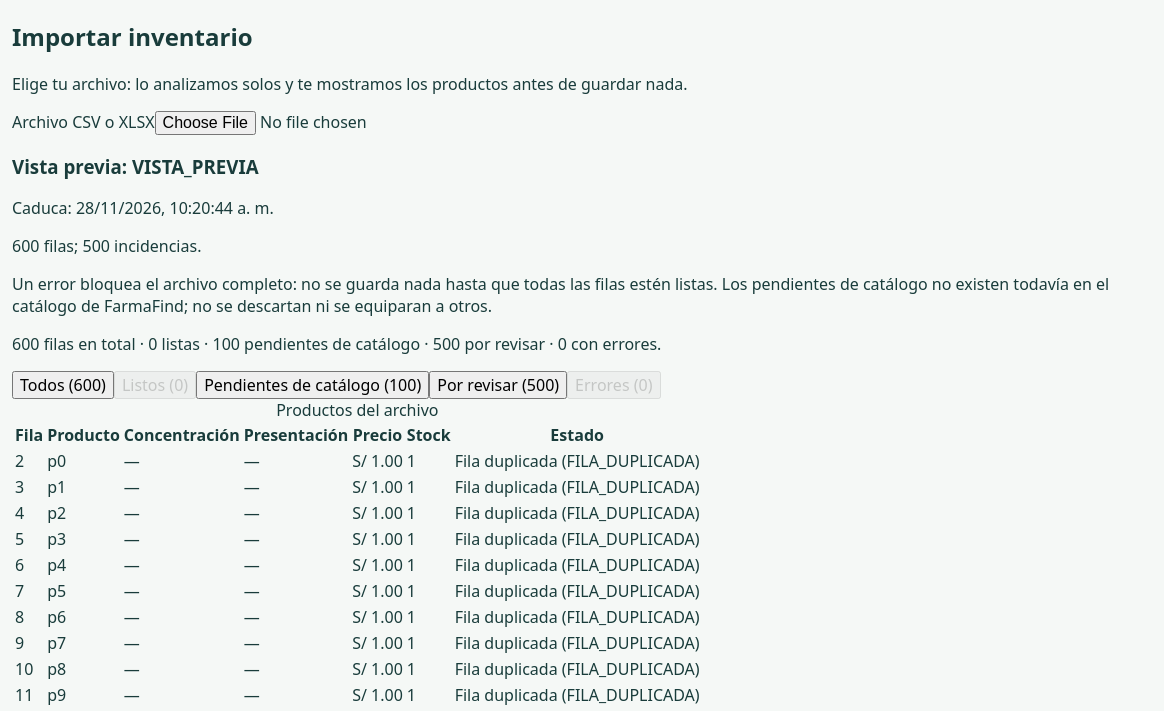
Test: F02.1 (enmienda 2026-11-25): importación en un paso › con cientos de duplicados: resumen, filtros, tabla paginada y avisos agrupados con «Ver detalle», nunca cientos de líneas
Expected: the text "600 filas en total · 0 listas · 100 pendientes de catálogo · 500 por revisar · 0 con errores." is shown, [12, 333, 661, 355]
Click the button "Pendientes de catálogo (100)": [313, 385] box [196, 371, 429, 399]
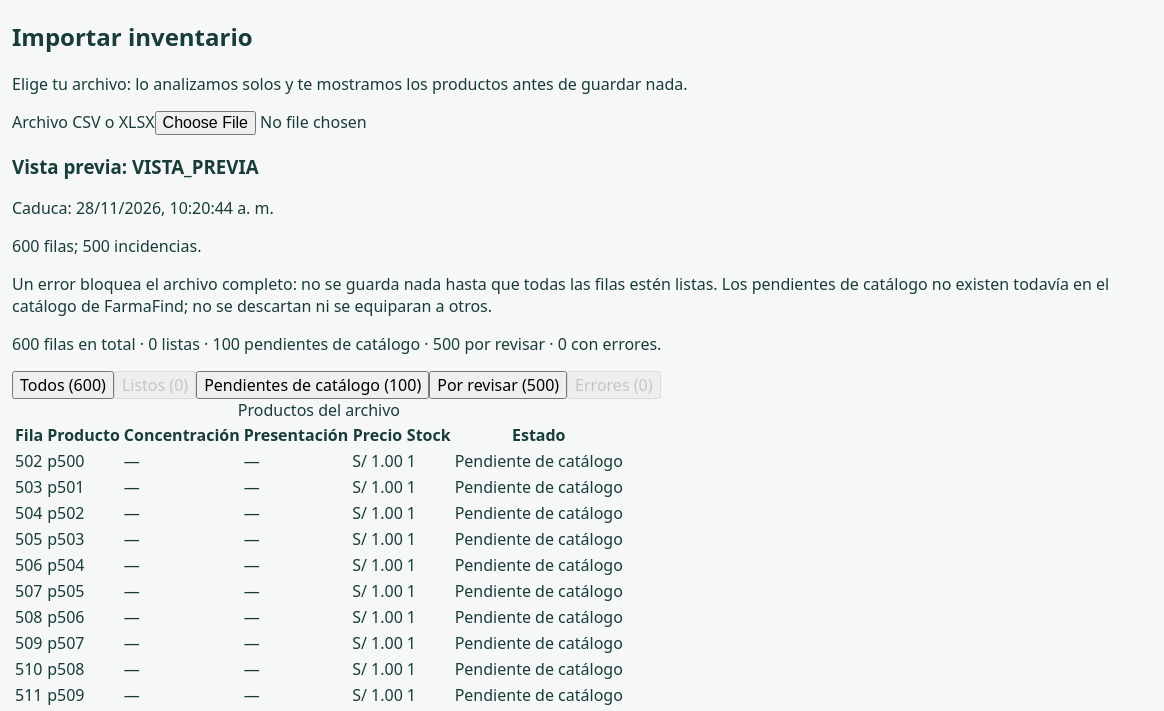
Expected: the text "p500" is shown, [46, 449, 121, 473]
Expected: the text "p0" is gone
